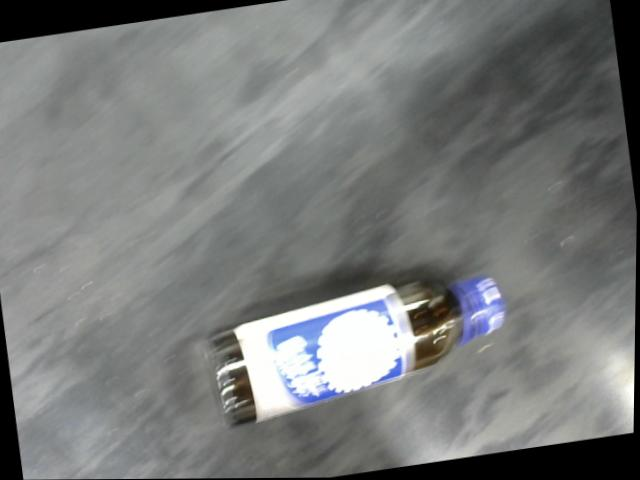glass: (198, 273, 510, 432)
